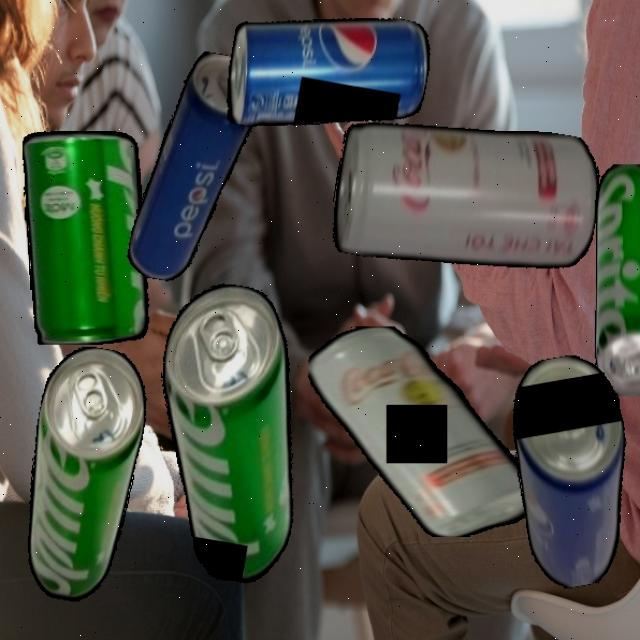debris: (128, 276, 331, 591), (324, 98, 609, 294), (308, 325, 534, 537), (8, 340, 156, 609), (125, 45, 268, 291), (499, 349, 640, 593), (220, 0, 436, 155), (23, 130, 149, 345), (594, 163, 640, 396)
